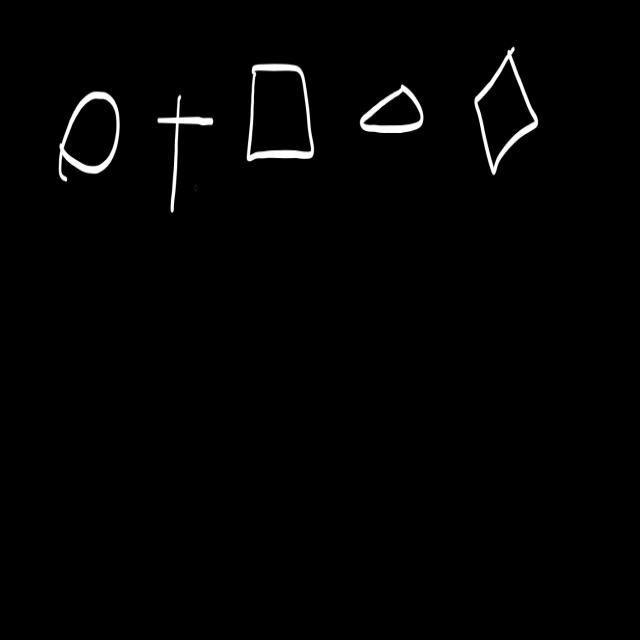Circle: (58, 92, 119, 181)
Cross: (157, 94, 213, 213)
Diamond: (474, 46, 538, 175)
Square: (247, 64, 314, 161)
Triangle: (359, 85, 424, 133)
